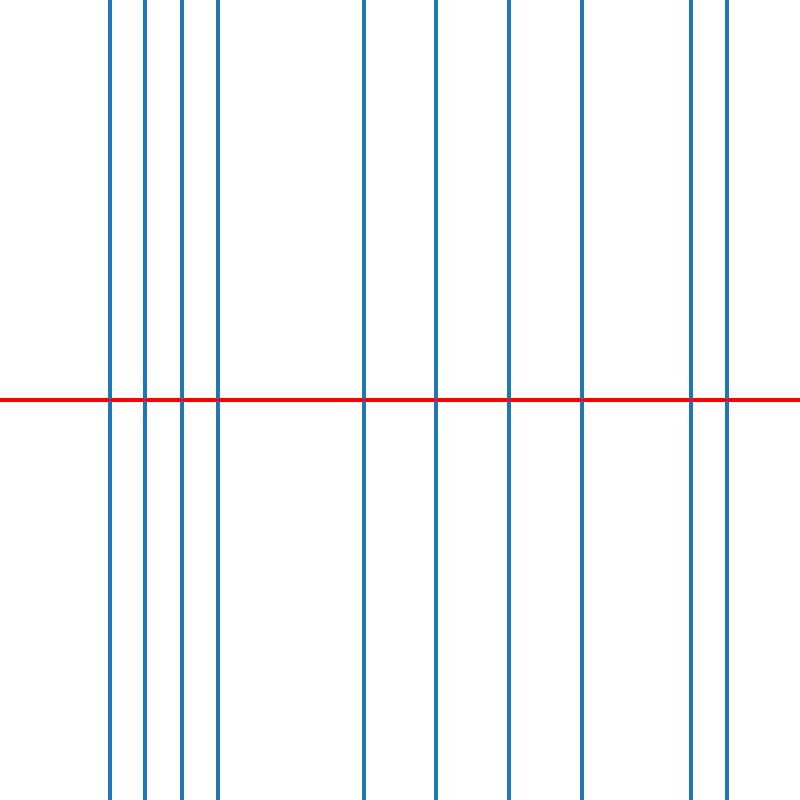root: (432, 396, 440, 404), (141, 396, 149, 404), (723, 396, 730, 404), (178, 396, 185, 404), (578, 396, 585, 404), (505, 396, 512, 404), (360, 396, 367, 404), (105, 396, 112, 404), (687, 396, 694, 404), (214, 396, 221, 404)
